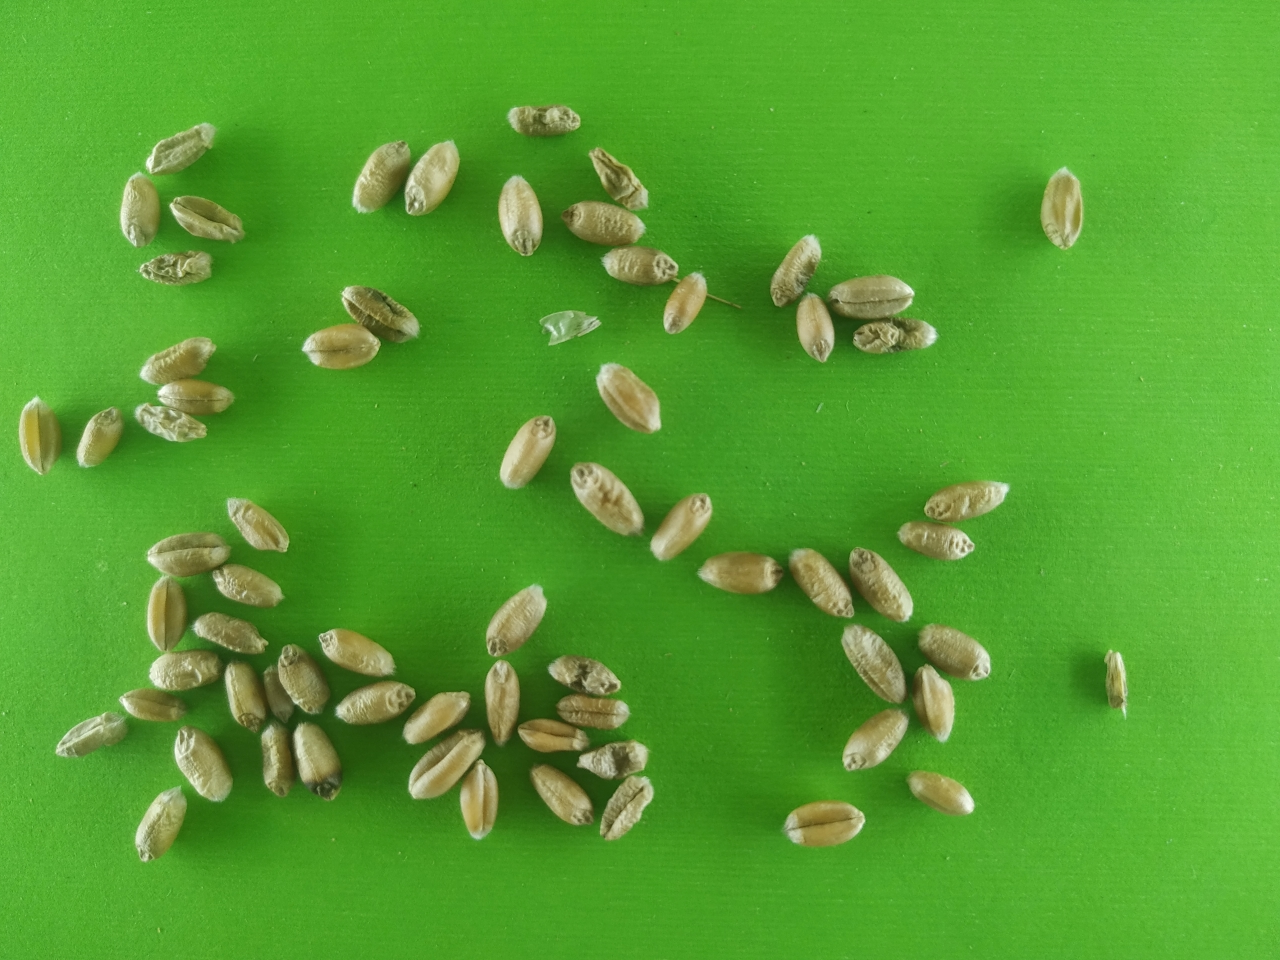bueno: (569, 460, 644, 541), (406, 729, 486, 800), (841, 619, 906, 700), (595, 360, 663, 437), (848, 546, 915, 622), (786, 544, 854, 619), (649, 488, 713, 563), (485, 581, 547, 656), (172, 726, 234, 802), (532, 755, 599, 825), (841, 707, 908, 773), (494, 172, 545, 258), (352, 140, 411, 214), (333, 678, 417, 729), (318, 624, 398, 679), (828, 273, 917, 322), (407, 140, 463, 217), (274, 641, 333, 714), (559, 199, 647, 247), (917, 623, 991, 681), (499, 415, 557, 487), (780, 799, 865, 848), (767, 233, 823, 307), (222, 493, 290, 554), (289, 724, 344, 800), (132, 787, 188, 859), (694, 551, 785, 595), (138, 337, 215, 389), (298, 322, 382, 369), (1042, 166, 1087, 252), (403, 687, 472, 743), (147, 531, 230, 578), (909, 665, 956, 742), (924, 478, 1010, 520), (19, 395, 63, 475), (485, 658, 524, 746), (168, 197, 246, 241), (898, 519, 977, 563), (146, 576, 189, 653), (119, 172, 163, 248), (658, 269, 708, 336), (193, 611, 268, 654), (226, 659, 270, 732), (599, 246, 678, 286), (460, 761, 501, 839), (906, 770, 977, 816), (148, 650, 226, 691), (210, 566, 283, 608), (76, 406, 124, 468), (157, 379, 240, 414), (122, 683, 191, 724), (261, 716, 296, 797), (797, 292, 836, 363), (519, 718, 587, 750)
danado: (340, 285, 420, 346), (589, 144, 651, 212), (55, 709, 126, 761), (147, 121, 215, 175), (600, 774, 654, 841), (853, 315, 942, 355), (547, 654, 620, 697), (579, 738, 649, 782), (131, 403, 208, 443), (136, 251, 214, 286), (504, 102, 583, 135), (558, 695, 632, 727)
impureza: (1102, 645, 1134, 723), (536, 308, 601, 345)
